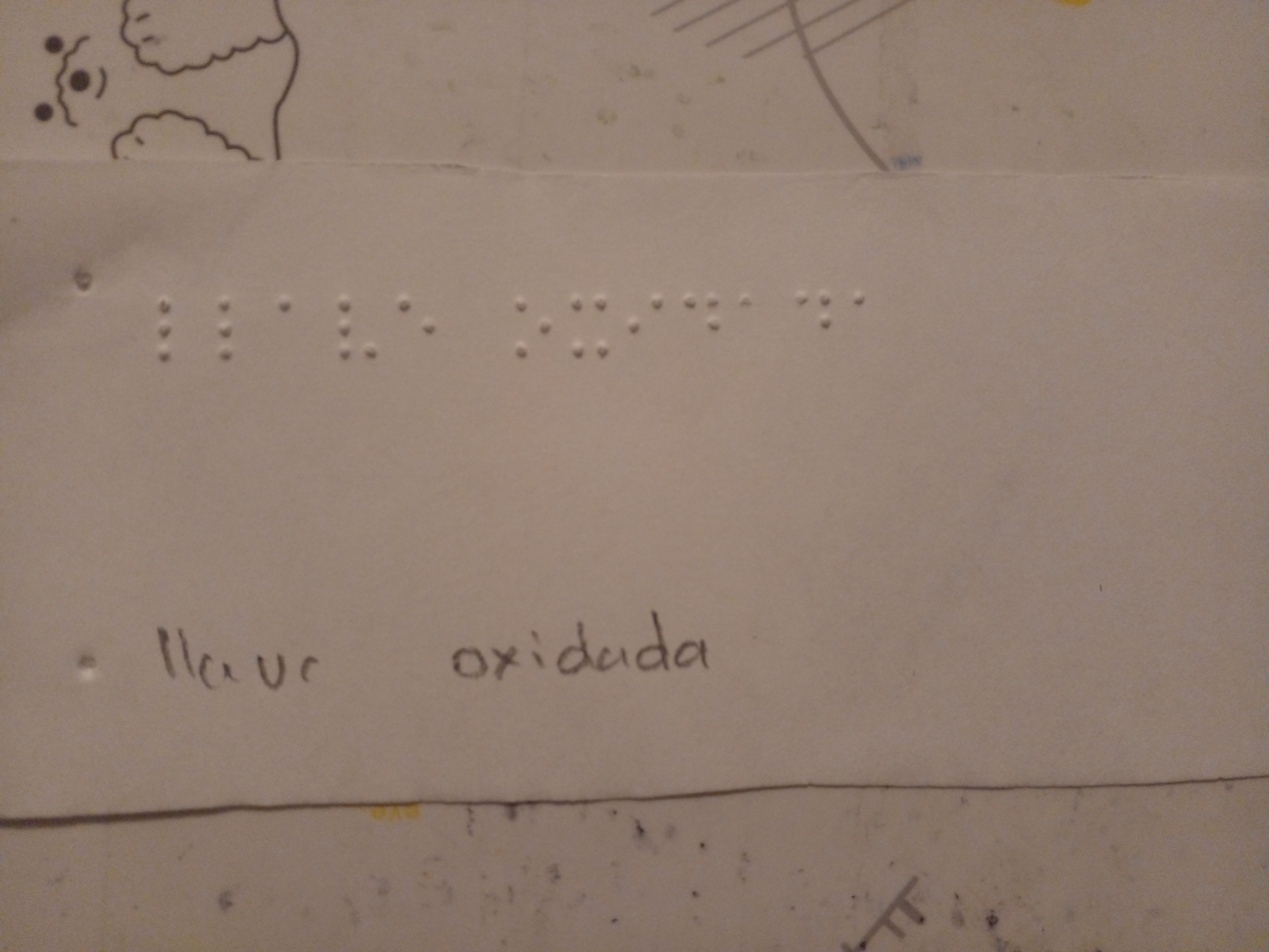a: (262, 279, 304, 333), (727, 284, 762, 335), (843, 282, 885, 319)
d: (776, 287, 841, 339), (675, 287, 725, 342)
e: (390, 285, 451, 363)
i: (620, 277, 671, 358)
l: (201, 274, 262, 378), (143, 277, 187, 375)
o: (496, 287, 561, 367)
v: (324, 284, 387, 383)
x: (562, 285, 620, 370)
